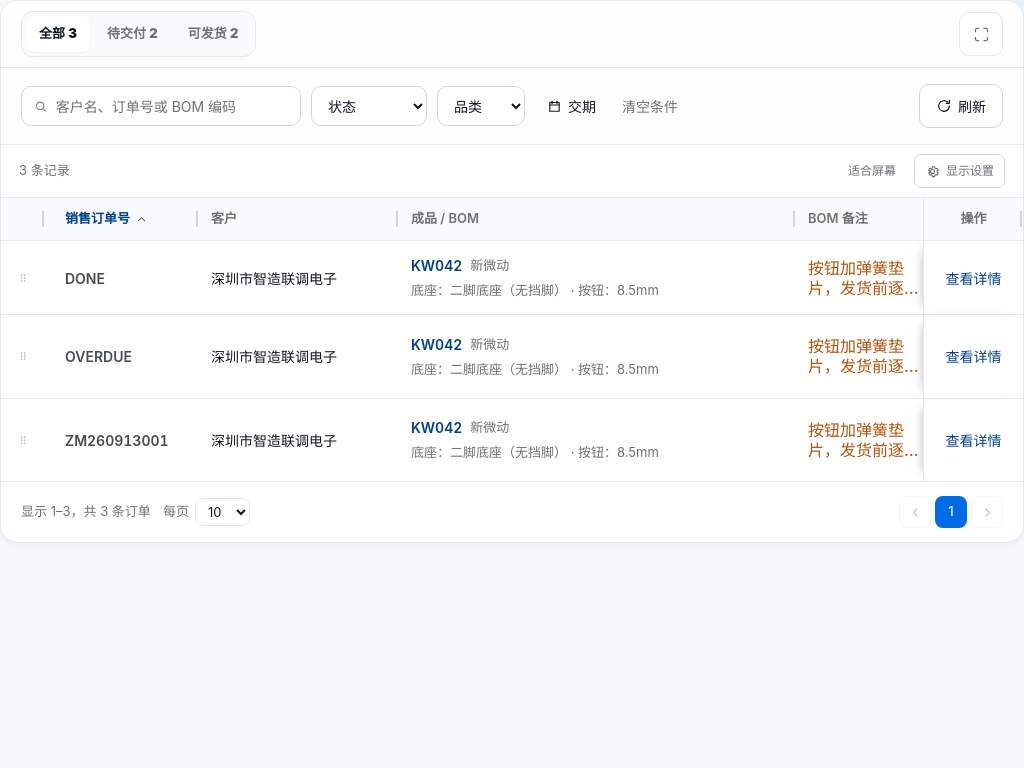
Test: 点击客户名打开客户档案详情，时间线可继续叠加订单详情
The width and height of the screenshot is (1024, 768).
Step 1. Click the button "深圳市智造联调电子" in the row of "300" → coordinates (274, 278), box [211,268,337,288]
(page scrolled)
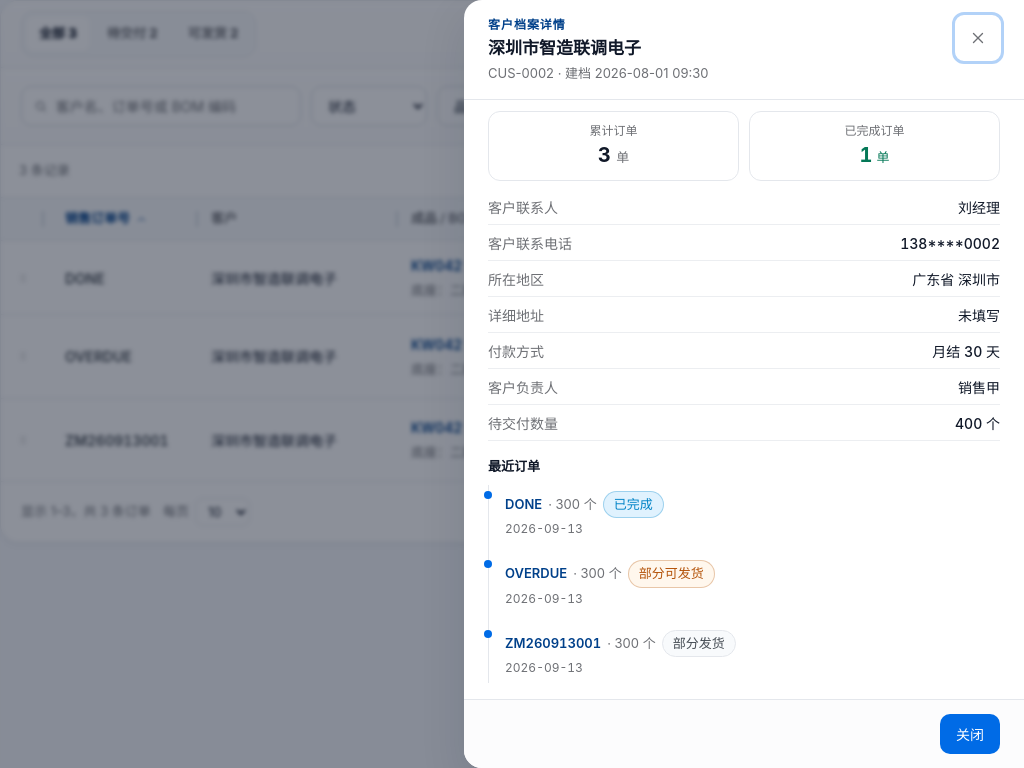
Expected: the button with aria-label "查看订单 ZM260913001 详情" is shown
Step 2. Click the button with aria-label "查看订单 ZM260913001 详情" → coordinates (620, 653), box [497,624,744,683]
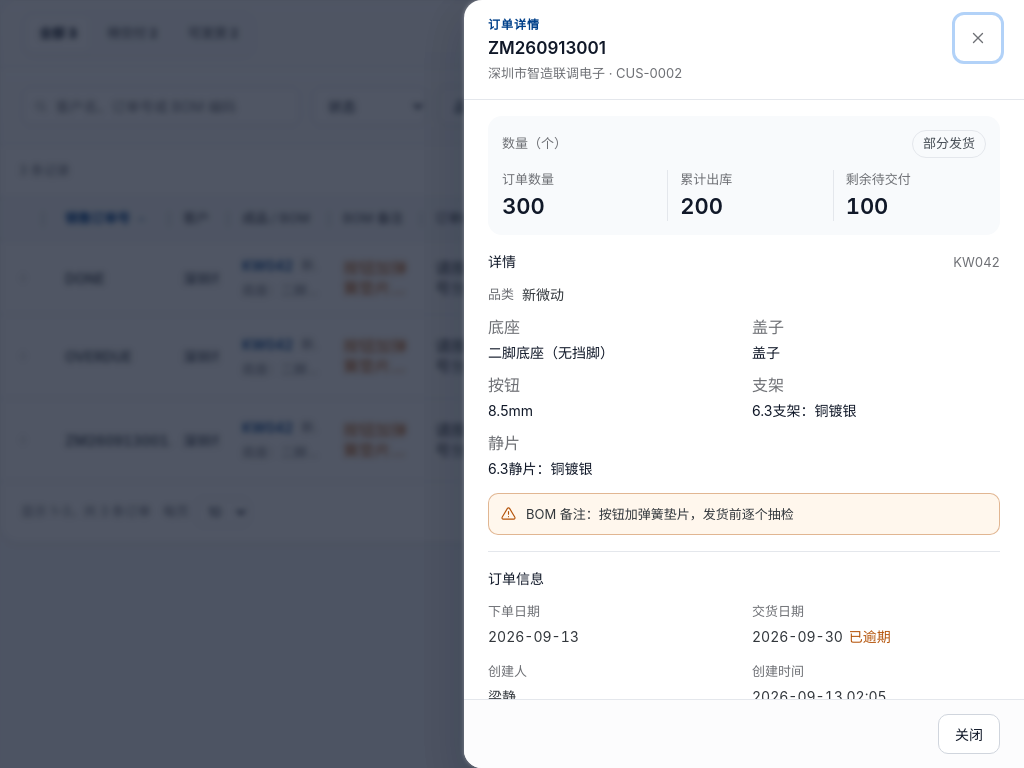
Expected: the dialog "ZM260913001" is shown, [464,0,1023,767]
